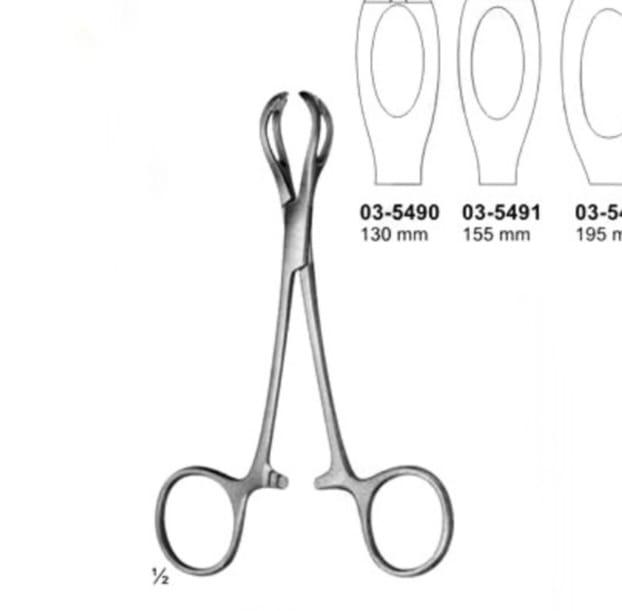Lane Tissue Forceps: (158, 89, 454, 574)
